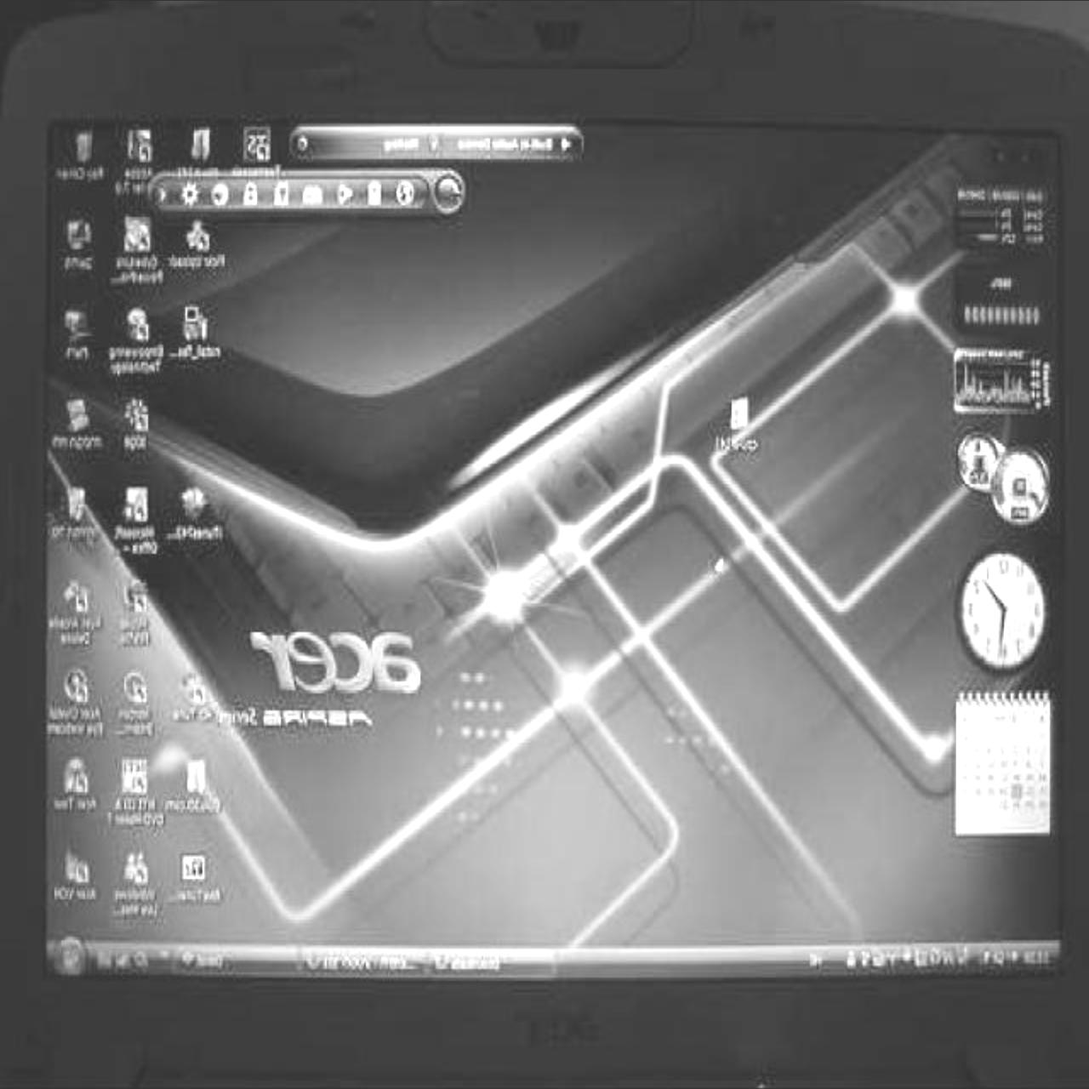laptop: (0, 51, 1072, 1089)
